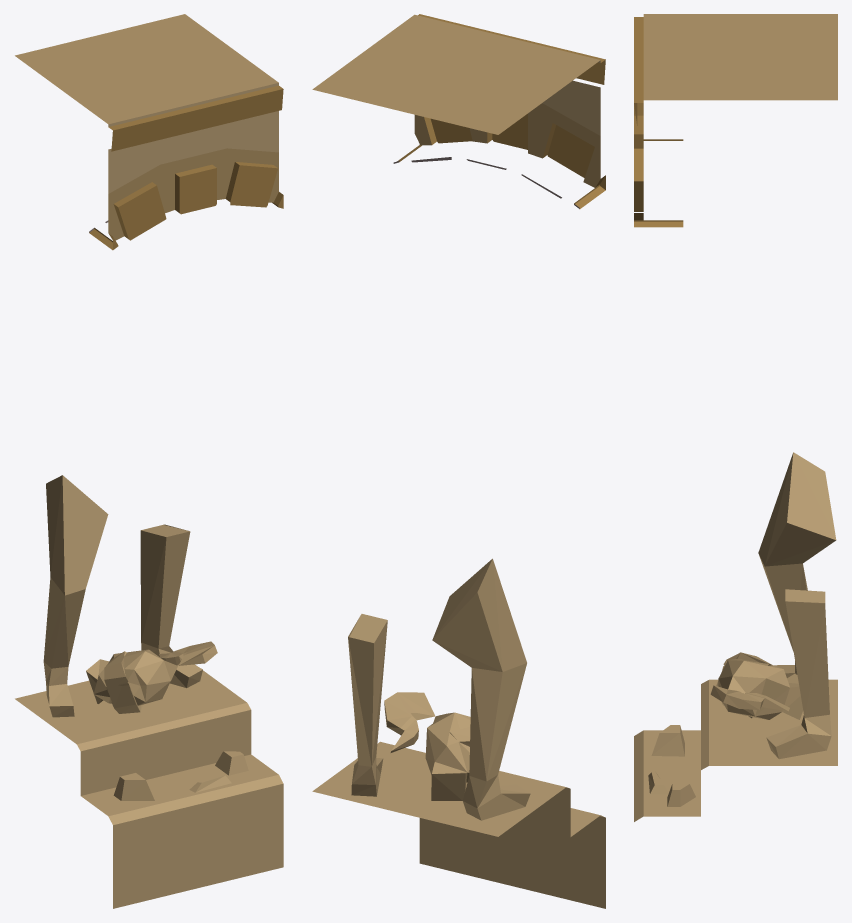
Rendered from model_loc_3071_8.obj.
3 renders of one model, left to right at view 1: azimuth 30°, elevation 25°; view 2: azimuth 150°, elevation 25°; view 3: azimuth 270°, elevation 25°, orthographic. The views are drawn at different scales.
Parts seen in each view (by area): view 1: 3239; view 2: 3239; view 3: 3239.
Part boxes in pixels (bbox=[...]): 3239: bbox=[15, 14, 283, 908]; 3239: bbox=[312, 14, 605, 908]; 3239: bbox=[634, 14, 837, 821].
Bounding box in the file's own units: 128 × 560 × 128.
